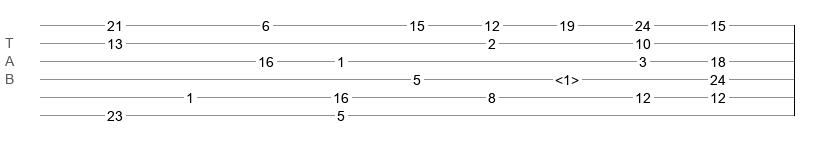1: (186, 90, 194, 100), (337, 54, 345, 64)
10: (635, 36, 651, 46)
12: (484, 18, 500, 28), (635, 90, 651, 100), (710, 90, 726, 100)
13: (107, 36, 123, 46)
15: (409, 18, 425, 28), (710, 18, 726, 28)
16: (258, 54, 274, 64), (333, 90, 349, 100)
18: (710, 54, 726, 64)
19: (559, 18, 575, 28)
2: (488, 36, 496, 46)
21: (107, 18, 123, 28)
23: (107, 108, 123, 118)
24: (635, 18, 651, 28), (710, 72, 726, 82)
3: (639, 54, 647, 64)
5: (337, 108, 345, 118), (413, 72, 421, 82)
6: (262, 18, 270, 28)
8: (488, 90, 496, 100)
harmonic: (555, 72, 579, 82)
